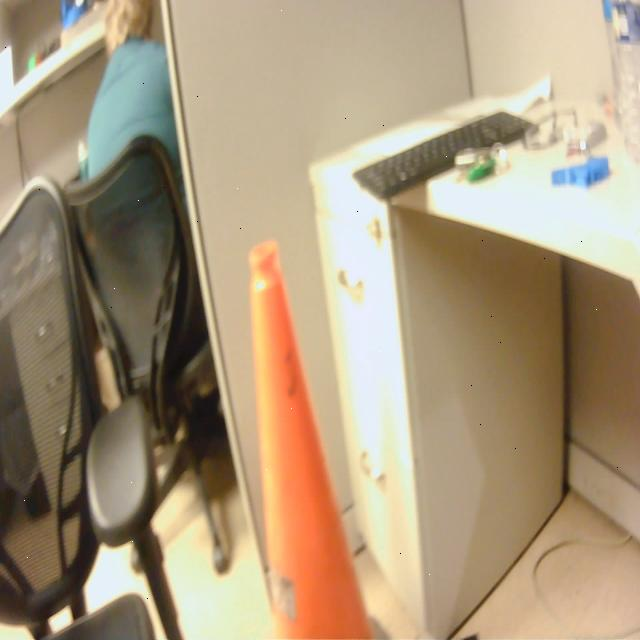traffic cone: (239, 229, 399, 640)
